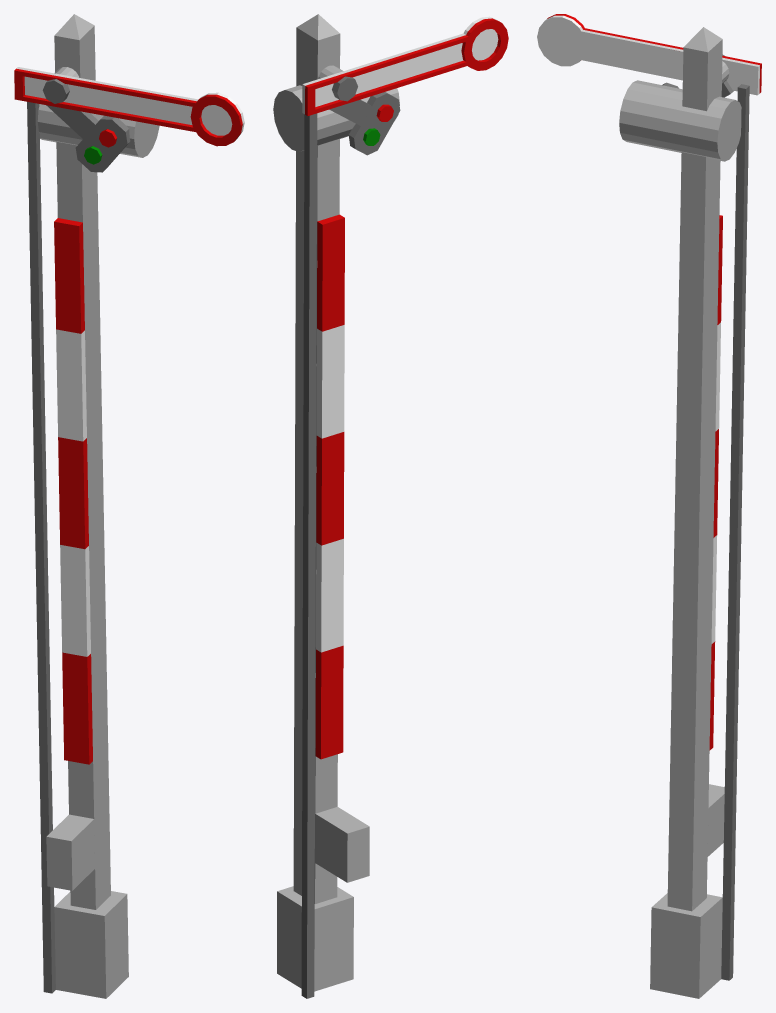
File: GMLID_4323540_367099_910.gltf
The picture shows the model from 3 angles, left to right: view 1: azimuth 90°, elevation 25°; view 2: azimuth 150°, elevation 25°; view 3: azimuth 270°, elevation 25°; orthographic projection. The views are drawn at different scales.
Parts seen in each view (by area): view 1: Z_UP; view 2: Z_UP; view 3: Z_UP.
Part boxes in pixels (<box>): Z_UP: <box>14,14,244,998</box>; Z_UP: <box>273,14,508,998</box>; Z_UP: <box>537,14,761,998</box>.
Size of the model in its own units: 2.28 by 14.05 by 3.01.
